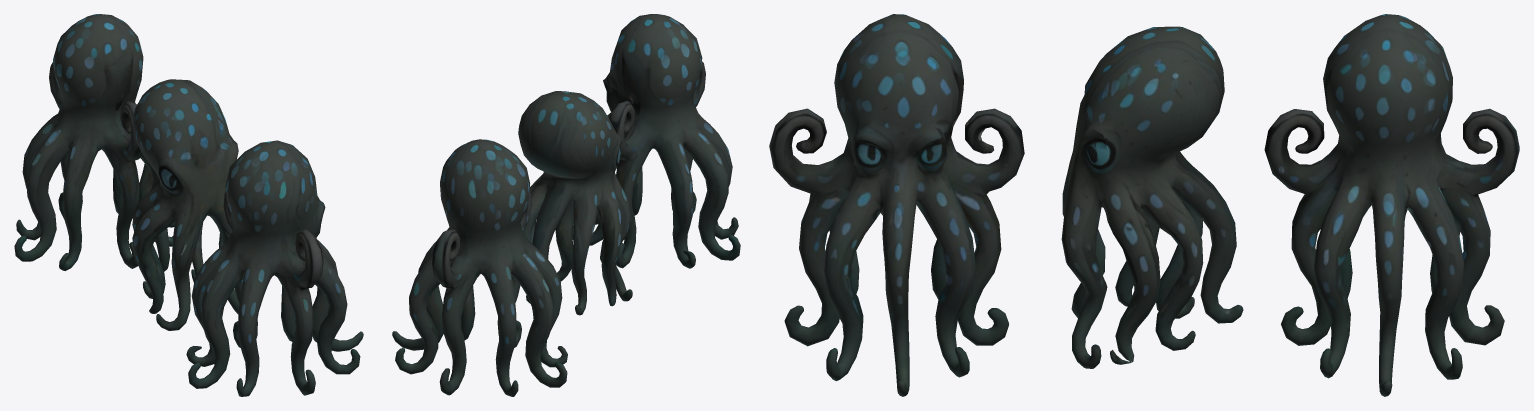
The model's file is polvoaneisazuisboss1.fbx.
3 renders of one model, left to right at view 1: azimuth 30°, elevation 25°; view 2: azimuth 150°, elevation 25°; view 3: azimuth 270°, elevation 25°, orthographic. The views are drawn at different scales.
Parts seen in each view (by area): view 1: tripo_node_2326f48f; view 2: tripo_node_2326f48f; view 3: tripo_node_2326f48f.
Part boxes in pixels (x1,y1,x2,y2): tripo_node_2326f48f: [14, 14, 363, 396]; tripo_node_2326f48f: [392, 14, 740, 396]; tripo_node_2326f48f: [769, 14, 1519, 396].
Bounding box in the file's own units: 38.52 × 47.79 × 99.95.
1 material, 1 textured.
